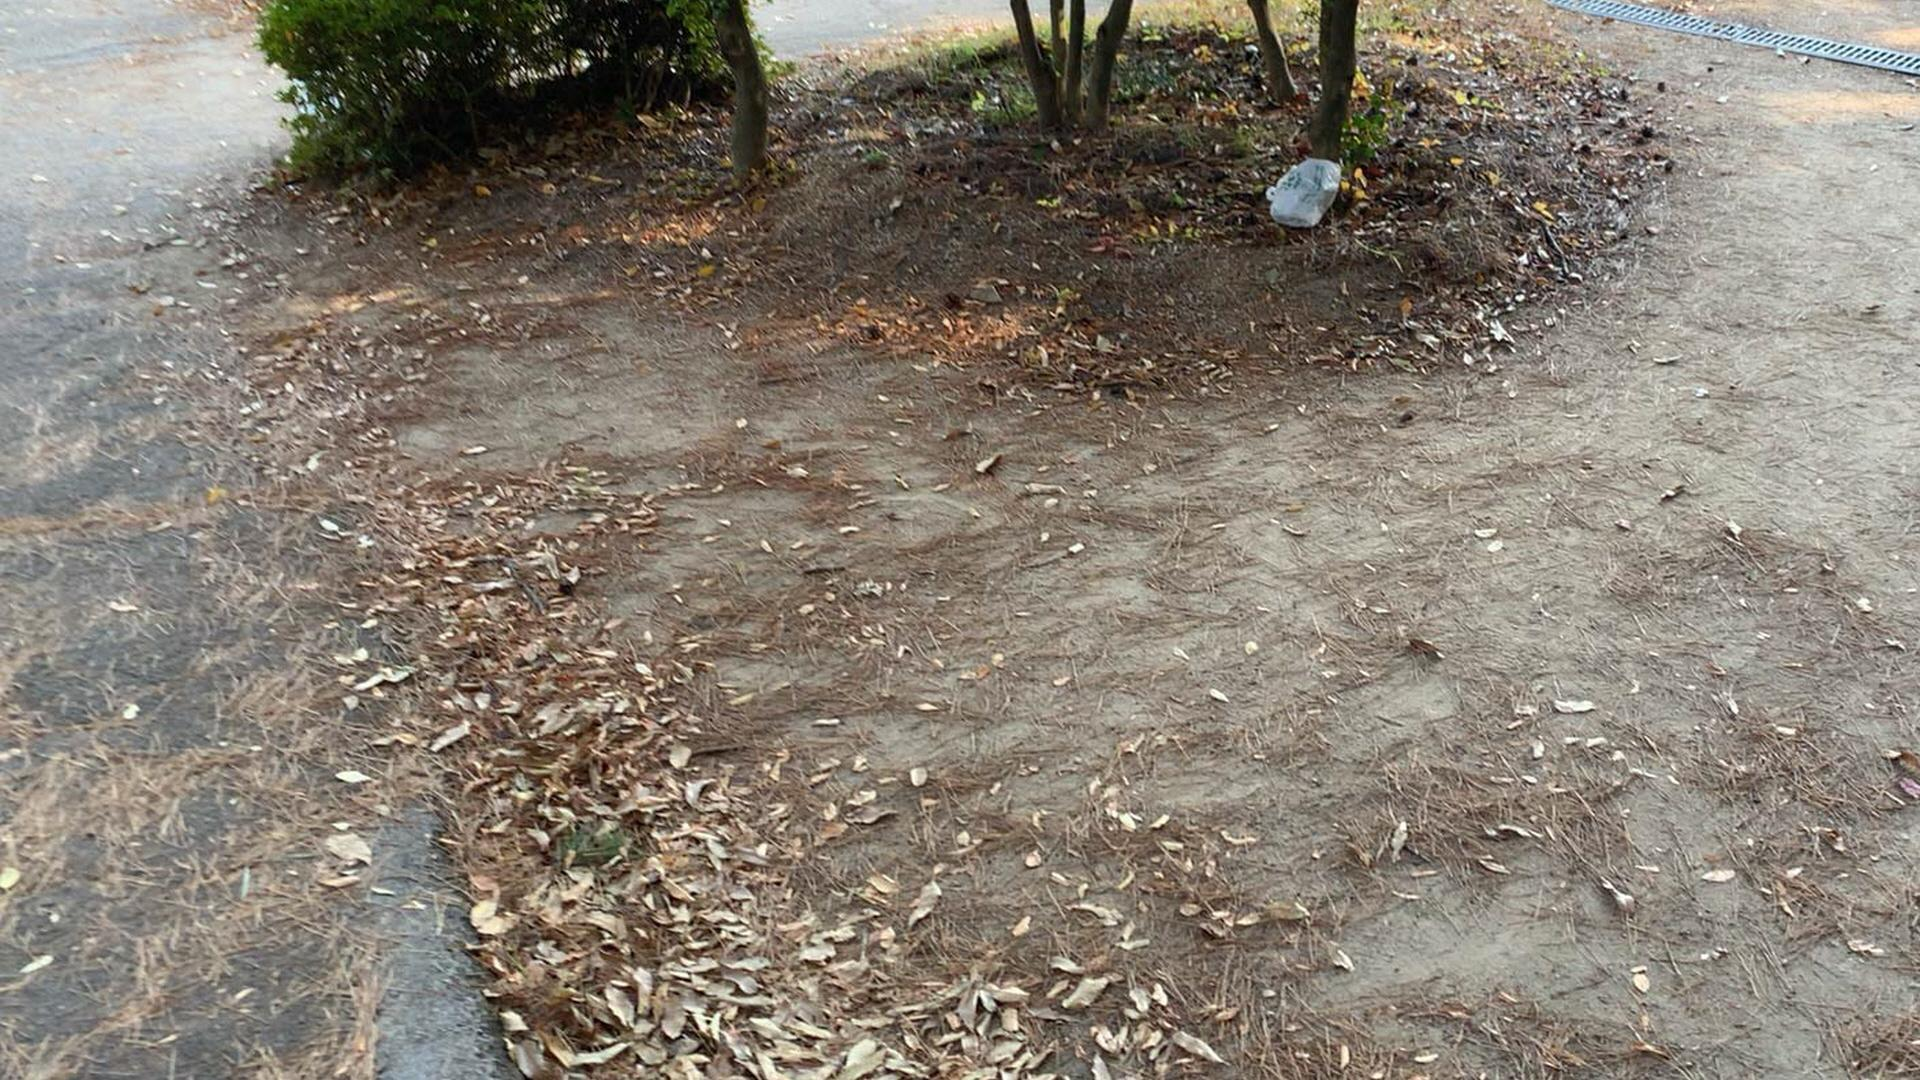white_bag: (1259, 154, 1340, 233)
